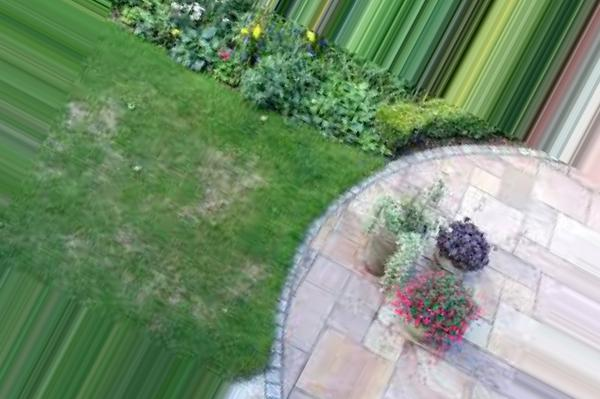patch: (212, 155, 249, 197), (93, 111, 128, 139), (235, 266, 263, 282), (180, 198, 201, 217)
